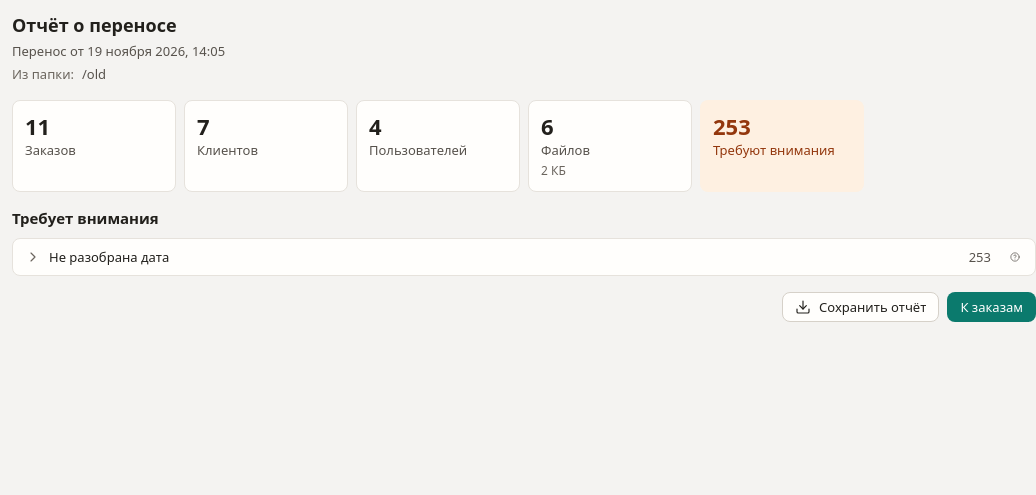
Test: ReportView groups › a group with orders and warnings without an order shows both; the cut counts the latter
Click the button "Не разобрана дата 253": (109, 257) [13,239,1003,275]
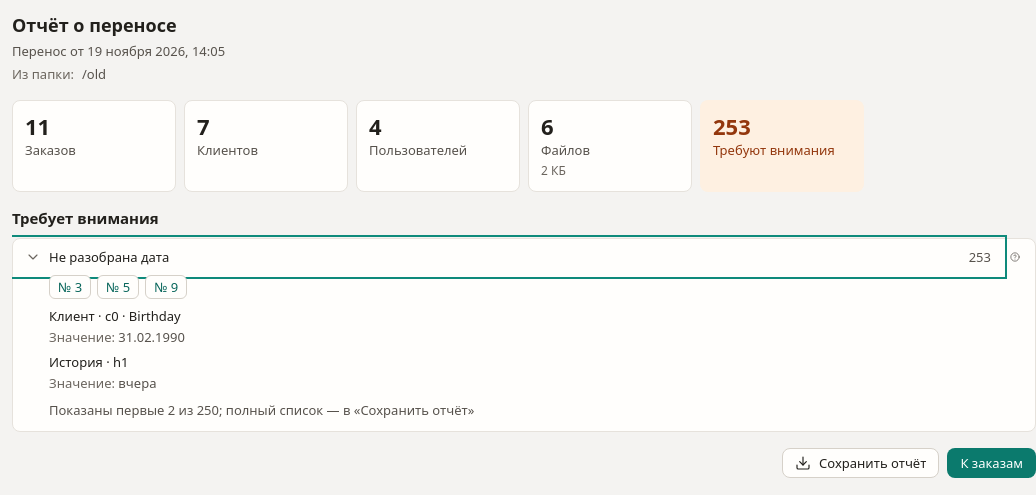
Now the text "Показаны первые 2 из 250; полный список — в «Сохранить отчёт»" is shown, box [49,400,474,419]
